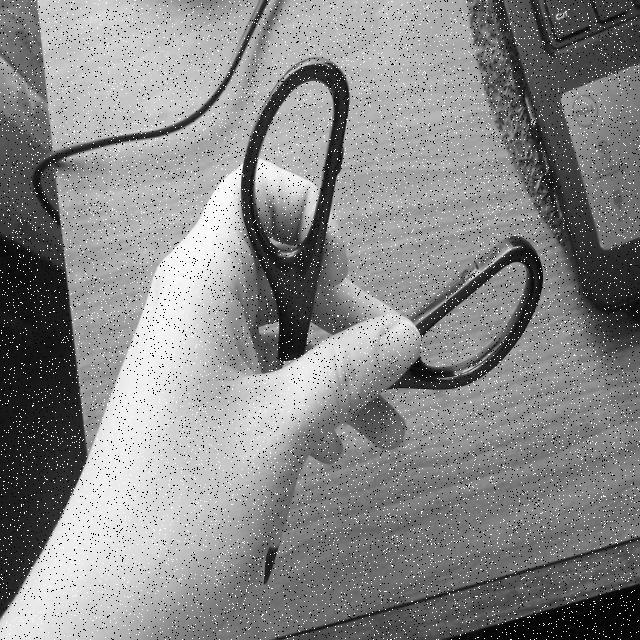scissors: (210, 26, 554, 622)
